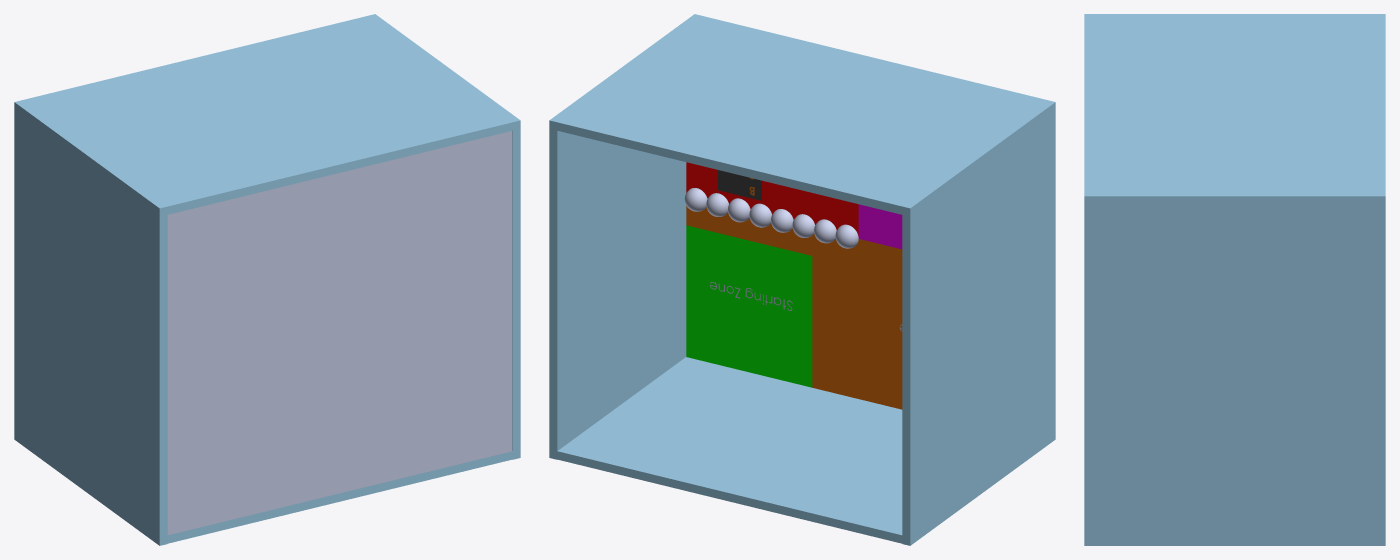
Rendered from Cosmic_Arena.dae.
The picture shows the model from 3 angles, left to right: view 1: azimuth 30°, elevation 25°; view 2: azimuth 150°, elevation 25°; view 3: azimuth 270°, elevation 25°; orthographic projection. The views are drawn at different scales.
Parts seen in each view (by area): view 1: Part 1 (×4), RegolithLayout; view 2: Part 1 (×4), RegolithLayout; view 3: Part 1 (×3).
Boxes of the visible parts, x1,y1,x2,y2 form: Part 1 (×4): (14,14,520,545); RegolithLayout: (167,131,512,535); Part 1 (×4): (549,14,1055,545); RegolithLayout: (684,162,902,409); Part 1 (×3): (1084,14,1385,545).
Bounding box in the file's own units: 5.73 × 4 × 5.12.
